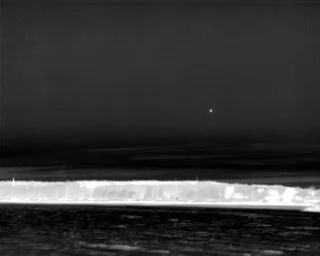HELICOPTER: (206, 107, 215, 116)
